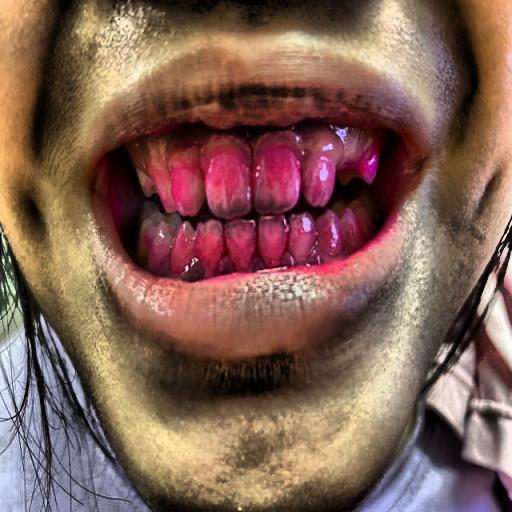Plaque: (115, 142, 398, 277)
